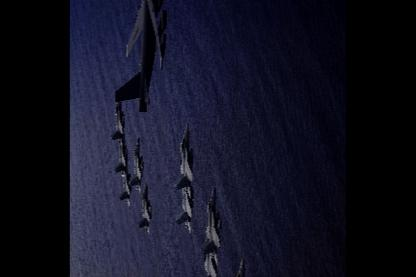B2: (115, 0, 167, 112)
F15: (200, 185, 221, 264), (174, 122, 193, 198), (174, 184, 192, 232), (198, 236, 218, 276), (128, 136, 142, 192), (138, 182, 152, 234), (114, 129, 127, 178), (110, 100, 124, 145), (118, 158, 130, 205), (227, 257, 252, 276)
